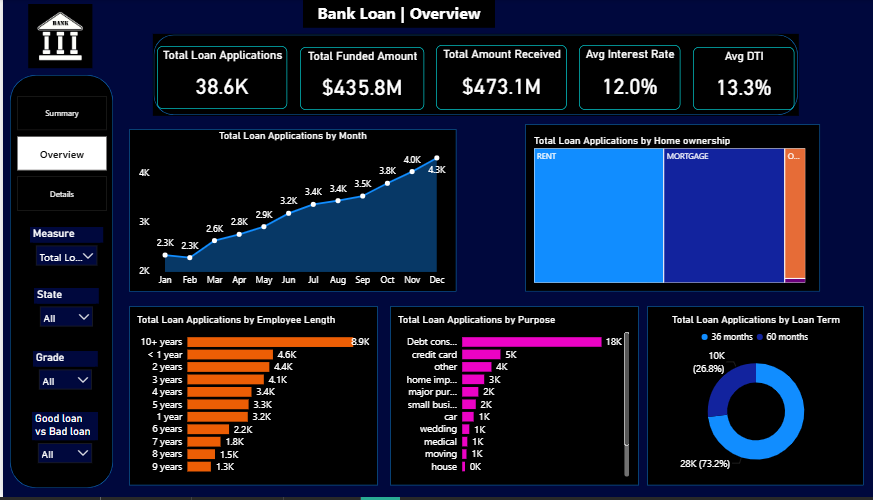

This screenshot's page, from the dashboard's own definition file:
{"tool":"powerbi","page":{"name":"Overview","canvas":[1450,830],"ordinal":1},"visuals":[{"type":"textbox","box":[500.3,0,320.3,48.2],"z":0},{"type":"shape","box":[250,58.8,1075.7,136.1],"z":0,"group":"g1"},{"type":"group","id":"g1","title":"Group 1","box":[250,58.8,1075.1,135.6],"z":1000},{"type":"card","title":"Total Loan Applications","fields":{"Values":["financial_loan.Total Loan Applications"]},"box":[257.1,78.6,216.9,104.9],"z":2000,"group":"g1"},{"type":"shape","box":[11.7,126.7,171.7,688.3],"z":2000},{"type":"card","title":"Total Funded Amount","fields":{"Values":["financial_loan.Total Funded Amount"]},"box":[494.5,80.1,206.9,104.9],"z":3000,"group":"g1"},{"type":"slicer","title":"State","fields":{"Values":["financial_loan.address_state"]},"box":[51.7,482.2,108.3,71.7],"z":3000},{"type":"card","title":"Total Amount Received","fields":{"Values":["financial_loan.Total Amount Received"]},"box":[722,77.2,218.3,107.7],"z":4000,"group":"g1"},{"type":"slicer","title":"Grade","fields":{"Values":["financial_loan.grade"]},"box":[50,586.1,108.3,70],"z":4000},{"type":"card","title":"Avg Interest Rate","fields":{"Values":["financial_loan.Average Interest Rate"]},"box":[960.8,77.2,168.7,107.7],"z":5000,"group":"g1"},{"type":"slicer","title":"Good loan vs Bad loan","fields":{"Values":["financial_loan.Good Loans vs Bad Loans"]},"box":[48.3,688.3,110,93.3],"z":5000},{"type":"card","title":"Avg DTI","fields":{"Values":["financial_loan.Average DTI"]},"box":[1150,80.1,168.7,104.9],"z":6000,"group":"g1"},{"type":"shape","box":[210.8,217.3,545.7,271.2],"z":6000},{"type":"slicer","title":"Measure","fields":{"Values":["Measure.Measure"]},"box":[45,380,121.7,70],"z":7000},{"type":"areaChart","fields":{"Y":["financial_loan.Total Loan Applications"],"Category":["Date.Month"]},"box":[222.2,217.3,522.8,271.2],"z":8000},{"type":"shape","box":[869.2,209.1,491.8,279.2],"z":9000},{"type":"treemap","fields":{"Values":["financial_loan.Total Loan Applications"],"Group":["financial_loan.home_ownership"]},"box":[880.6,225.5,462.4,253.2],"z":10000},{"type":"shape","box":[210.8,511.4,415,299],"z":11000},{"type":"barChart","title":"Total Loan Applications by Employee Length","fields":{"Y":["financial_loan.Total Loan Applications"],"Category":["financial_loan.emp_length"]},"box":[218.9,522.8,397,277.8],"z":12000},{"type":"shape","box":[645.4,511.4,415,299],"z":13000},{"type":"barChart","title":"Total Loan Applications by Purpose","fields":{"Y":["financial_loan.Total Loan Applications"],"Category":["financial_loan.purpose"]},"box":[653.5,522.8,395.4,277.8],"z":14000},{"type":"shape","box":[1073.4,511.4,361.1,299],"z":15000},{"type":"donutChart","title":"Total Loan Applications by Loan Term","fields":{"Y":["financial_loan.Total Loan Applications"],"Category":["financial_loan.term"]},"box":[1089.8,522.8,330,277.8],"z":16000},{"type":"pageNavigator","box":[23.3,161.7,150,191.7],"z":17000},{"type":"image","box":[30.4,2.9,130.1,117.1],"z":17001}]}

Visuals, with their boxes in screenshot pixels (x1, y1, x2, y2), scaled from the page's 1450x830 canvas onto the 873x500 screenshot:
textbox: x1=301 y1=0 x2=494 y2=29
shape: x1=151 y1=35 x2=798 y2=117
"Group 1" group: x1=151 y1=35 x2=798 y2=117
"Total Loan Applications" card: x1=155 y1=47 x2=285 y2=111
shape: x1=7 y1=76 x2=110 y2=491
"Total Funded Amount" card: x1=298 y1=48 x2=422 y2=111
"State" slicer: x1=31 y1=290 x2=96 y2=334
"Total Amount Received" card: x1=435 y1=47 x2=566 y2=111
"Grade" slicer: x1=30 y1=353 x2=95 y2=395
"Avg Interest Rate" card: x1=578 y1=47 x2=680 y2=111
"Good loan vs Bad loan" slicer: x1=29 y1=415 x2=95 y2=471
"Avg DTI" card: x1=692 y1=48 x2=794 y2=111
shape: x1=127 y1=131 x2=455 y2=294
"Measure" slicer: x1=27 y1=229 x2=100 y2=271
areaChart - financial_loan.Total Loan Applications x Date.Month: x1=134 y1=131 x2=449 y2=294
shape: x1=523 y1=126 x2=819 y2=294
treemap - financial_loan.Total Loan Applications x financial_loan.home_ownership: x1=530 y1=136 x2=809 y2=288
shape: x1=127 y1=308 x2=377 y2=488
"Total Loan Applications by Employee Length" barChart: x1=132 y1=315 x2=371 y2=482
shape: x1=389 y1=308 x2=638 y2=488
"Total Loan Applications by Purpose" barChart: x1=393 y1=315 x2=632 y2=482
shape: x1=646 y1=308 x2=864 y2=488
"Total Loan Applications by Loan Term" donutChart: x1=656 y1=315 x2=855 y2=482
pageNavigator: x1=14 y1=97 x2=104 y2=213
image: x1=18 y1=2 x2=97 y2=72
